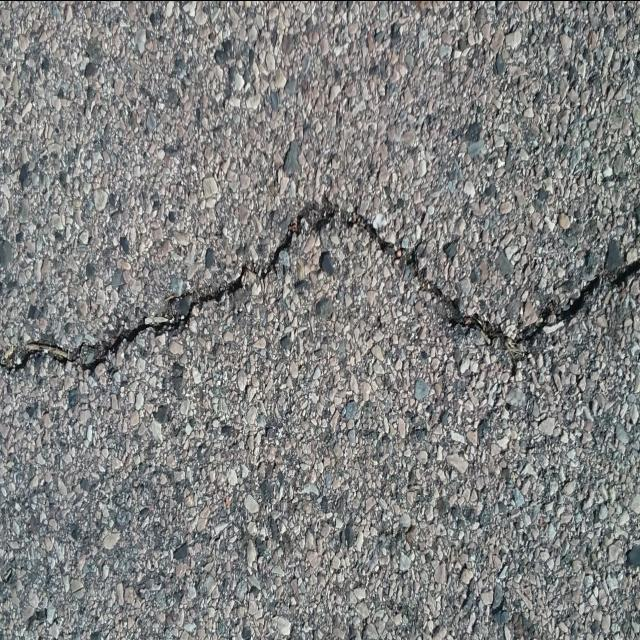Crack: (0, 197, 640, 378)
